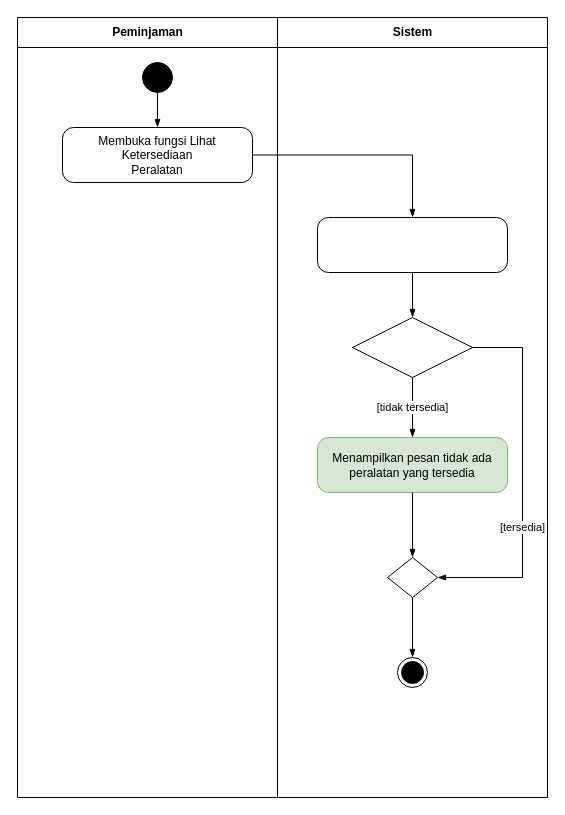
Image size: 565x815. Some labels were removed from this diagram. Each missing label, with the centre of its shape:
"Menampilkan daftar peralatan beserta status ketersediaannya" goes at point (412, 244).
"Peralatan tersedia?" goes at point (412, 347).
